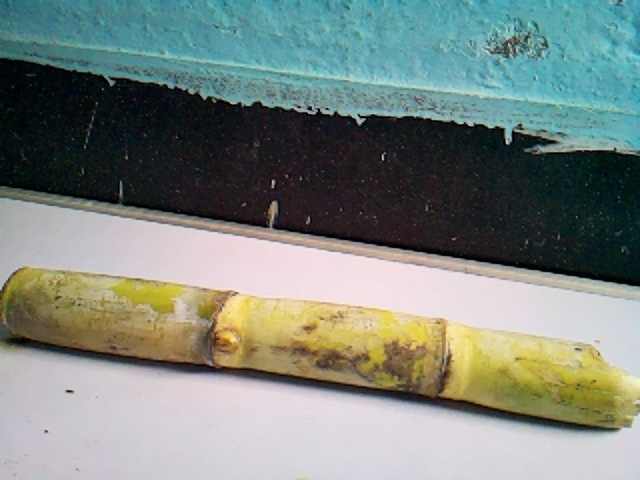Good Sugarcane: (0, 263, 638, 432)
Node: (188, 282, 258, 371), (414, 312, 473, 406)
